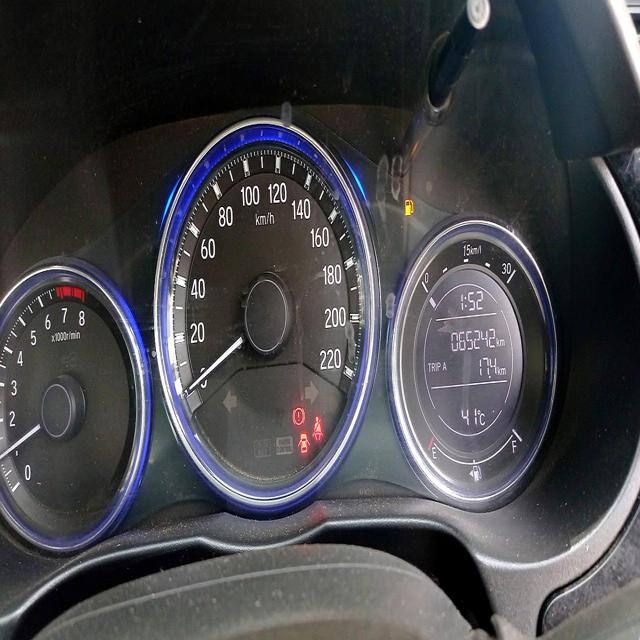odometer: (449, 326, 497, 353)
